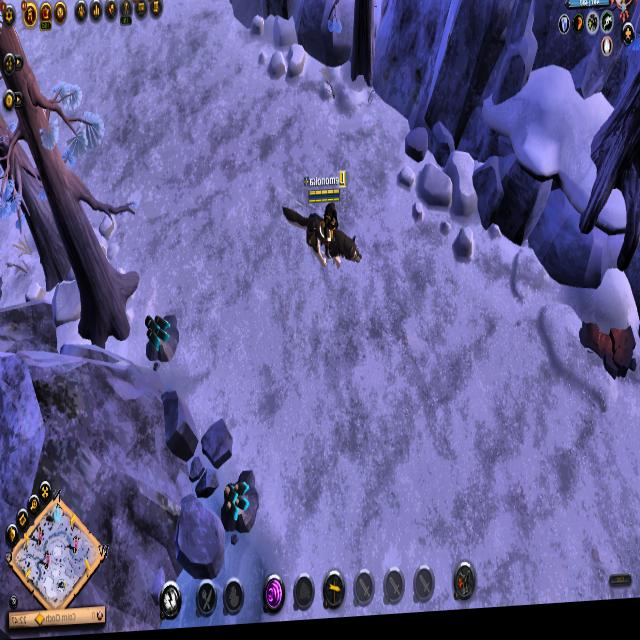ore tier 4: (219, 466, 260, 544), (140, 307, 178, 375)
